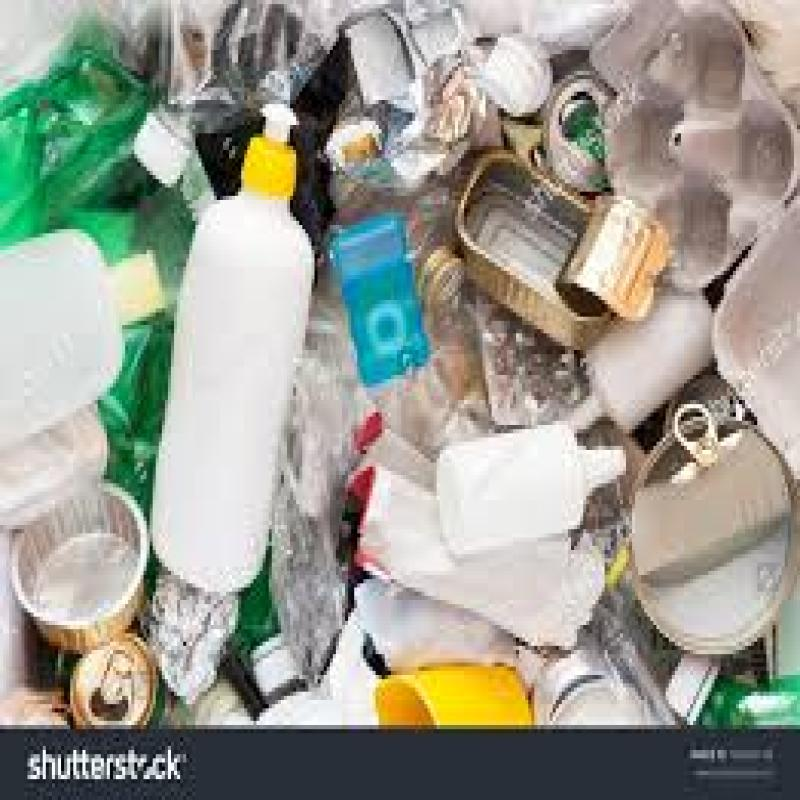botella: (124, 0, 371, 192)
